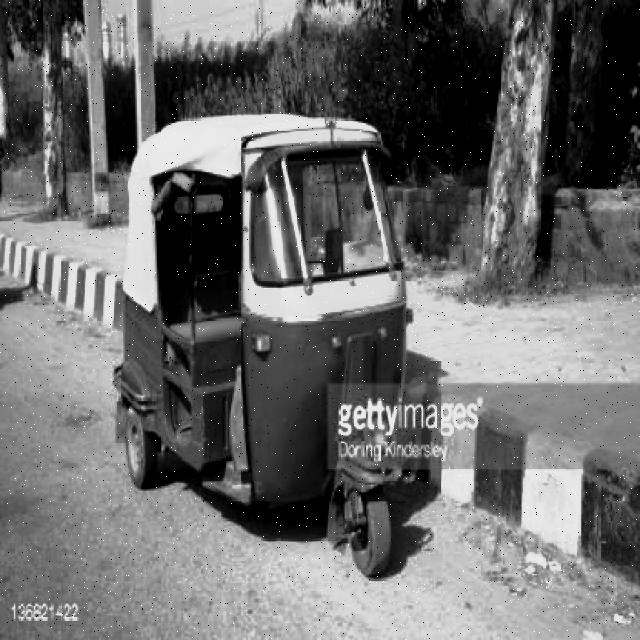Auto-Rickshaw: (112, 108, 413, 574)
